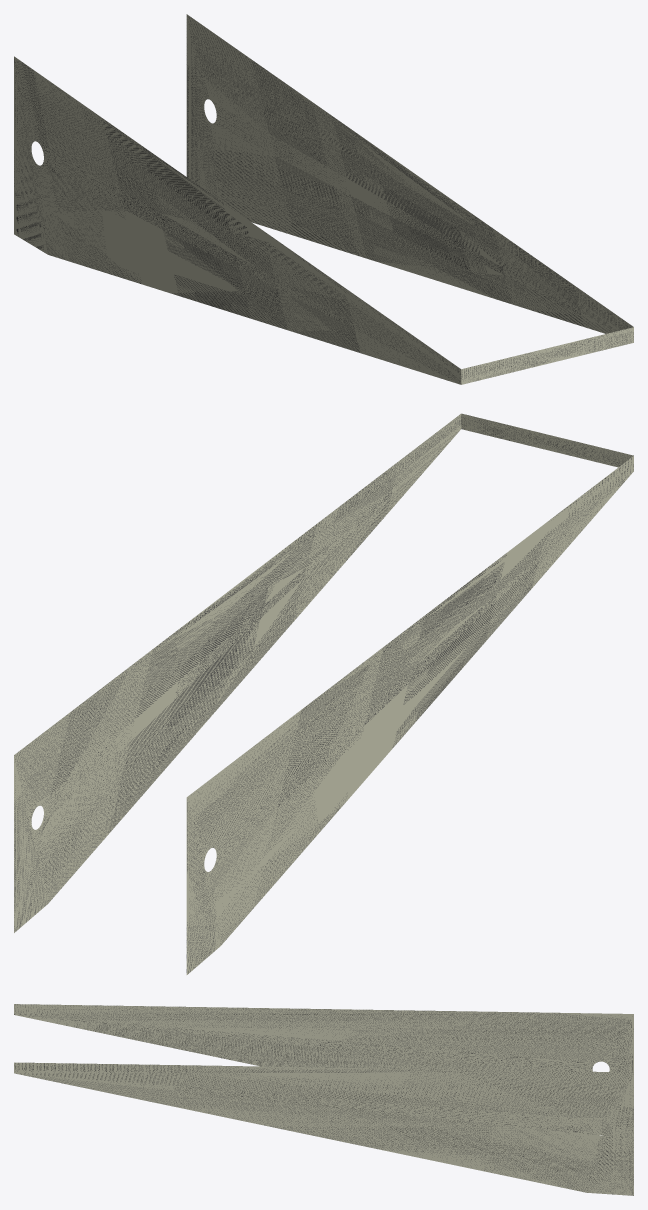
The model's file is original-6.obj.
The picture shows the model from 3 angles, top to bottom: view 1: azimuth 30°, elevation 25°; view 2: azimuth 150°, elevation 25°; view 3: azimuth 270°, elevation 25°; orthographic projection. The views are drawn at different scales.
Parts seen in each view (by area): view 1: Group6/mesh8/mesh8-geometry#mesh8-geometry; view 2: Group6/mesh8/mesh8-geometry#mesh8-geometry; view 3: Group6/mesh8/mesh8-geometry#mesh8-geometry.
Boxes of the visible parts, bbox=[...] form: Group6/mesh8/mesh8-geometry#mesh8-geometry: bbox=[14, 14, 633, 384]; Group6/mesh8/mesh8-geometry#mesh8-geometry: bbox=[14, 413, 633, 974]; Group6/mesh8/mesh8-geometry#mesh8-geometry: bbox=[14, 1004, 633, 1195].
Bounding box in the file's own units: 0.3702 × 0.3943 × 1.66.
